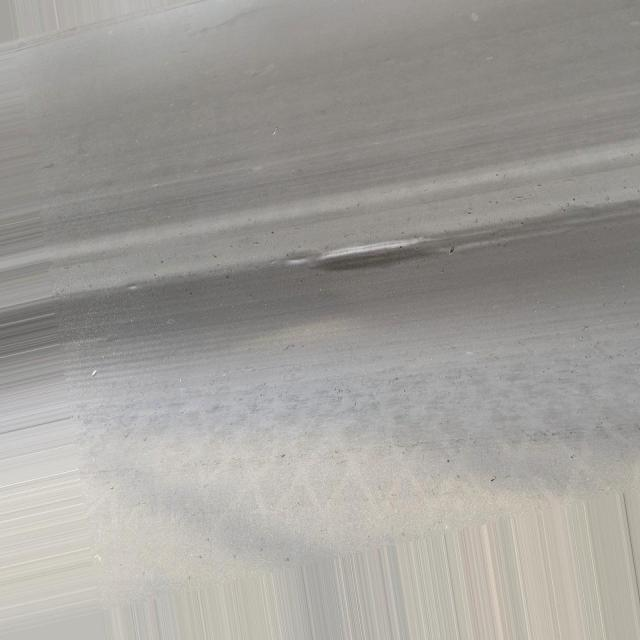Impact Damage: (278, 230, 430, 280)
